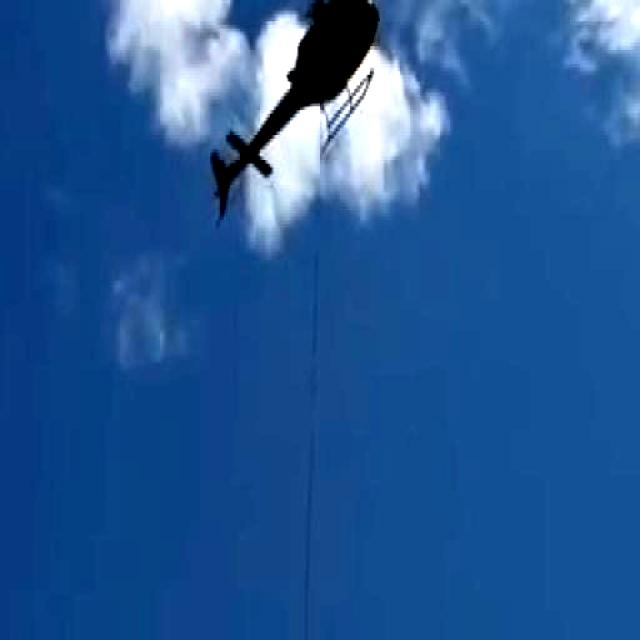drone: (212, 0, 384, 226)
